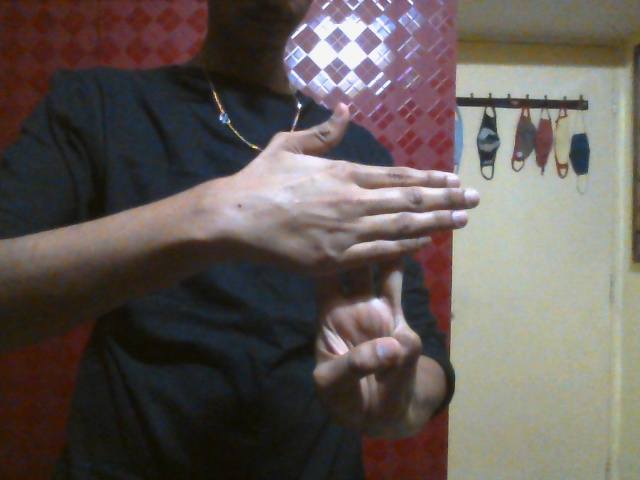M: (257, 104, 480, 421)
